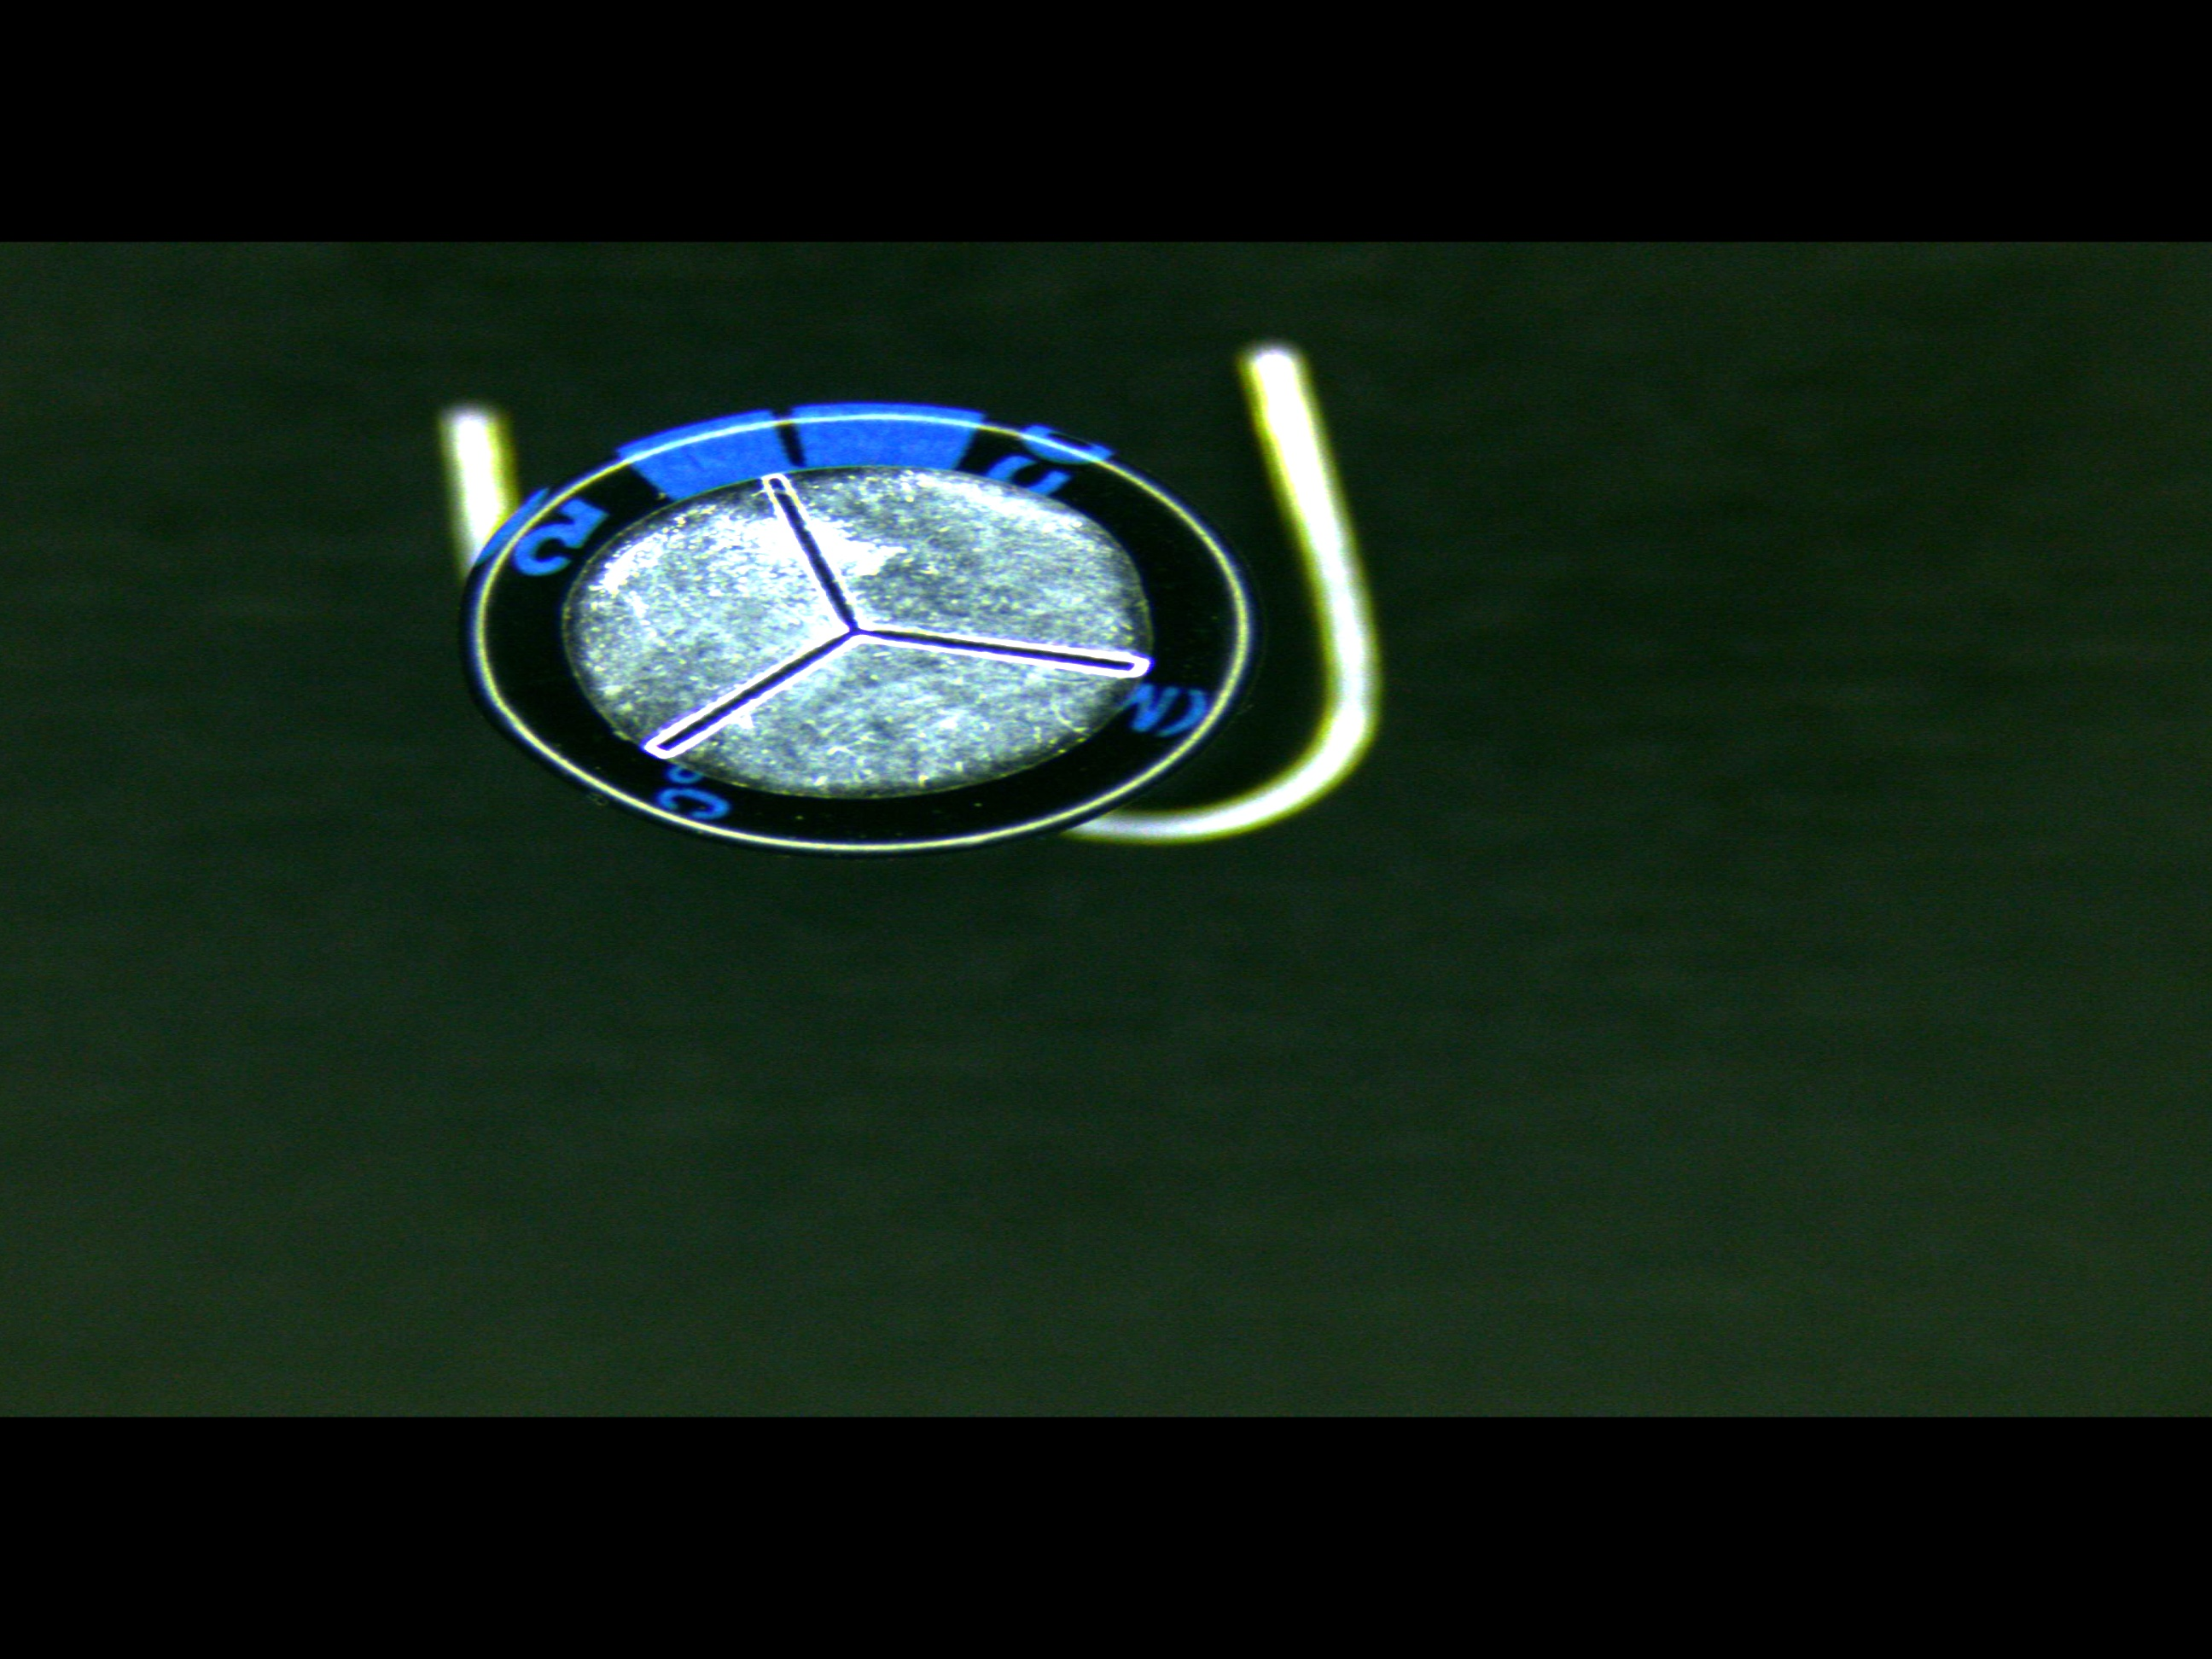c2: (462, 399, 1238, 854)
